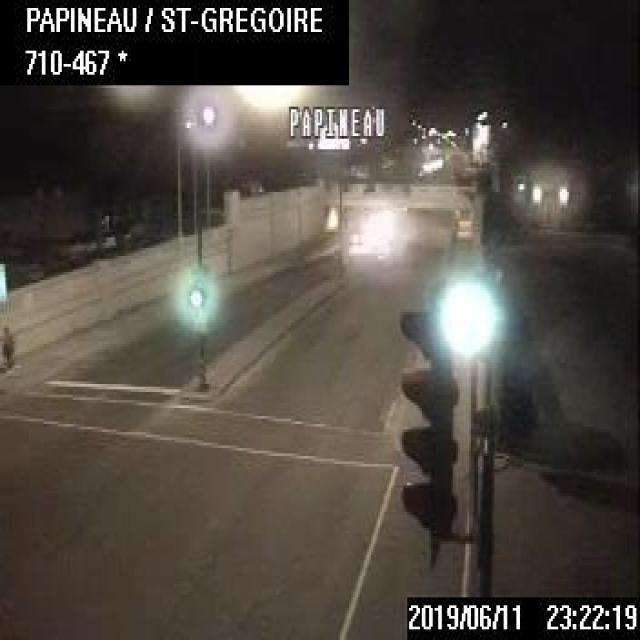pedestrian: (0, 320, 16, 376)
